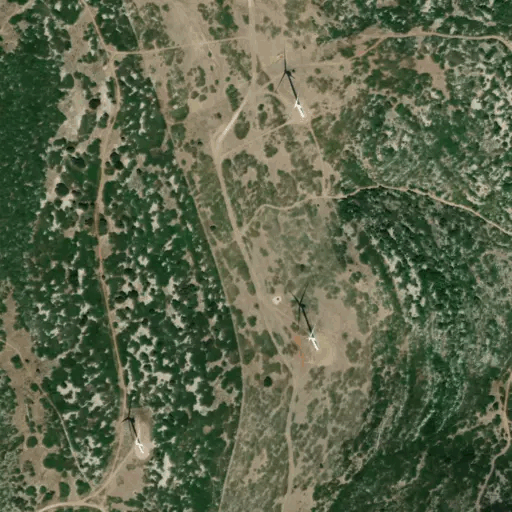wt: (274, 47, 310, 124), (289, 287, 323, 354), (122, 400, 147, 458)
